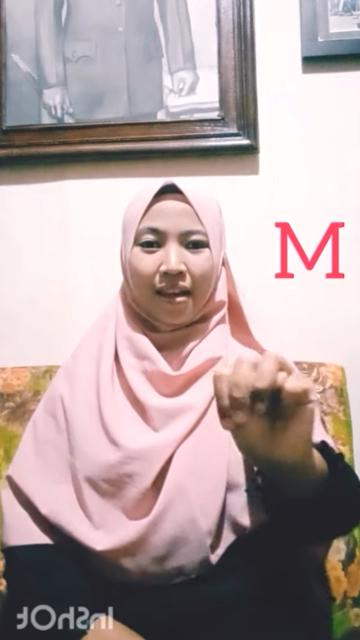M: (214, 349, 318, 466)
